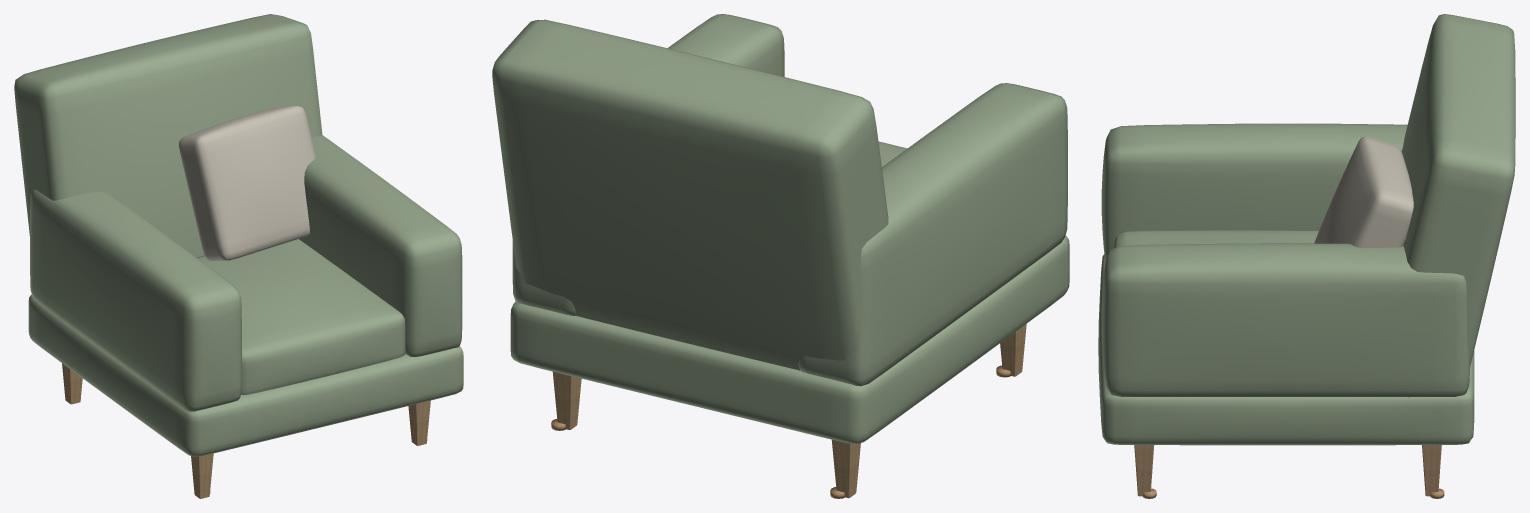
Rendered from guest_armchair.gltf.
The picture shows the model from 3 angles, left to right: view 1: azimuth 30°, elevation 25°; view 2: azimuth 150°, elevation 25°; view 3: azimuth 270°, elevation 25°; orthographic projection. The views are drawn at different scales.
Visible parts, largest first — view 1: GuestArmchair_Back, GuestArmchair_Arm_L, GuestArmchair_Base, GuestArmchair_Arm_R, GuestArmchair_Seat, GuestArmchair_Cushion, GuestArmchair_DetailPiping_Oak_Light; view 2: GuestArmchair_Back, GuestArmchair_Arm_L, GuestArmchair_Base, GuestArmchair_Arm_R, GuestArmchair_DetailPiping_Oak_Light; view 3: GuestArmchair_Arm_R, GuestArmchair_Arm_L, GuestArmchair_Back, GuestArmchair_Base, GuestArmchair_Cushion, GuestArmchair_Seat, GuestArmchair_DetailPiping_Oak_Light.
Part boxes in pixels (x1,y1,x2,y2): GuestArmchair_Back: (14,14,322,257); GuestArmchair_Arm_L: (30,189,241,411); GuestArmchair_Base: (28,294,463,456); GuestArmchair_Arm_R: (299,135,462,356); GuestArmchair_Seat: (196,239,405,394); GuestArmchair_Cushion: (179,105,315,261); GuestArmchair_DetailPiping_Oak_Light: (62,363,430,498); GuestArmchair_Back: (492,19,888,370); GuestArmchair_Arm_L: (798,83,1067,386); GuestArmchair_Base: (510,235,1069,443); GuestArmchair_Arm_R: (512,14,784,315); GuestArmchair_DetailPiping_Oak_Light: (552,324,1026,498); GuestArmchair_Arm_R: (1101,243,1469,397); GuestArmchair_Arm_L: (1101,123,1407,261); GuestArmchair_Back: (1401,14,1515,366); GuestArmchair_Base: (1098,254,1474,445); GuestArmchair_Cushion: (1314,136,1413,247); GuestArmchair_Seat: (1114,230,1318,247); GuestArmchair_DetailPiping_Oak_Light: (1134,445,1441,496).
Bounding box in the file's own units: 0.8569 × 0.9245 × 0.9864.
4 materials, 1 textured.
